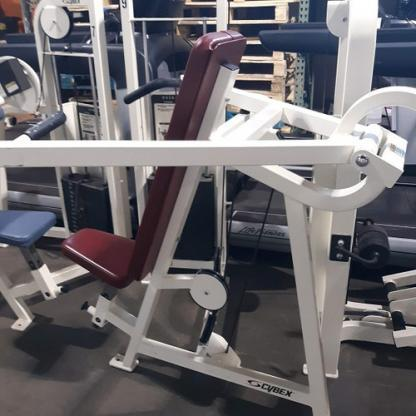shoulder press machine: (0, 2, 416, 416)
